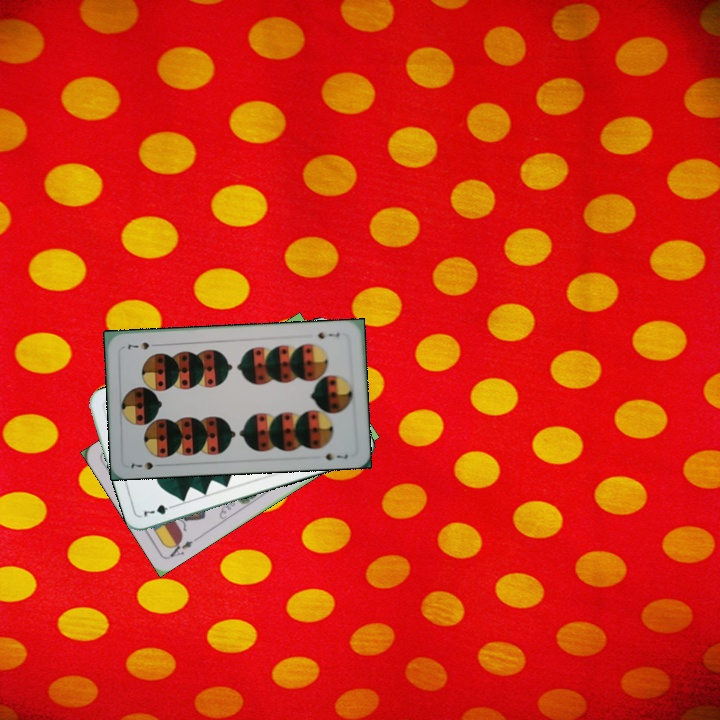EA: (164, 535, 195, 560)
G7: (140, 500, 179, 519)
S7: (126, 458, 166, 472), (314, 328, 342, 341)
